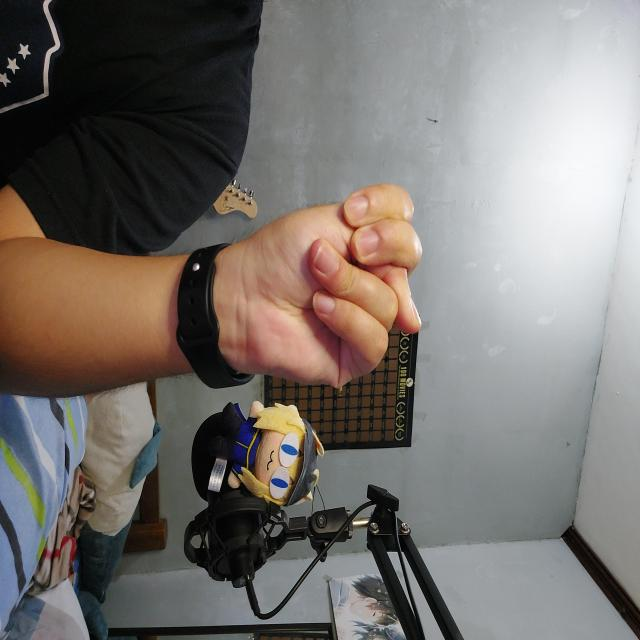N: (198, 158, 436, 419)
